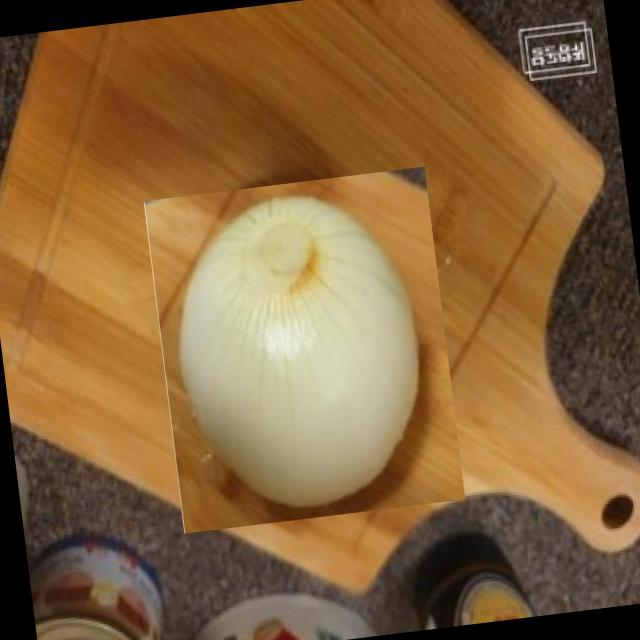Onion: (143, 166, 465, 534)
